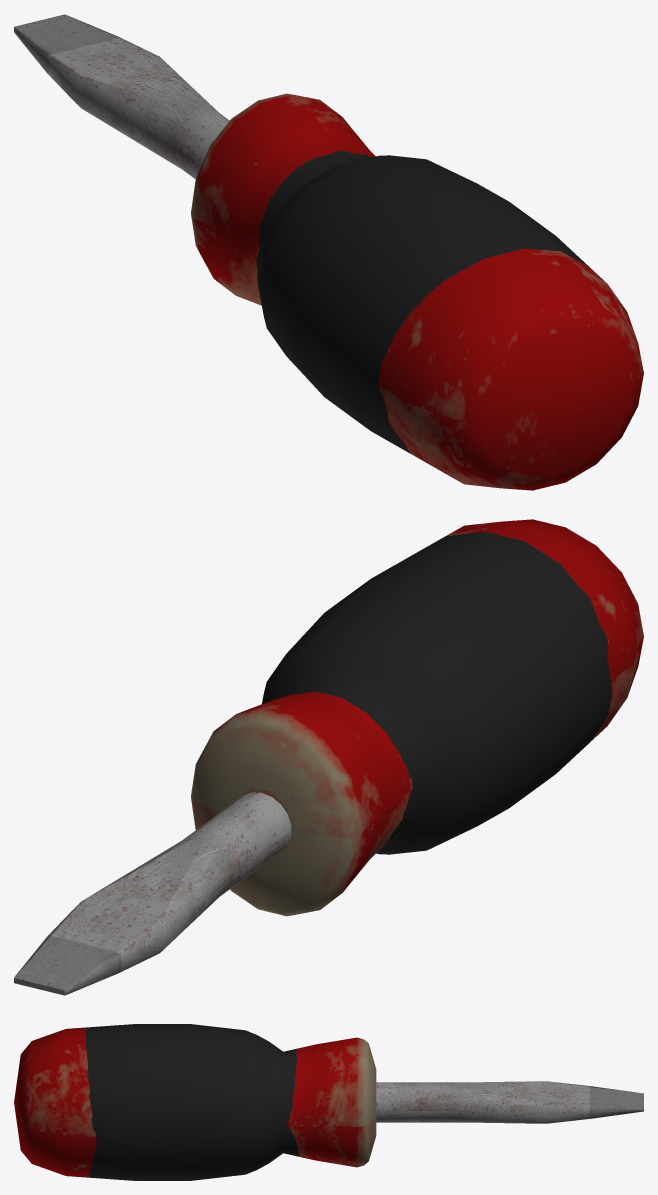
The model's file is Screwdriver01_4.FBX.
3 views of the same model, one above another, from view 1: azimuth 30°, elevation 25°; view 2: azimuth 150°, elevation 25°; view 3: azimuth 270°, elevation 25° (orthographic). The views are drawn at different scales.
Parts seen in each view (by area): view 1: Screwdriver01_4_LOD0; view 2: Screwdriver01_4_LOD0; view 3: Screwdriver01_4_LOD0.
Part boxes in pixels (x1,y1,x2,y2): Screwdriver01_4_LOD0: (14, 14, 643, 490); Screwdriver01_4_LOD0: (14, 519, 643, 995); Screwdriver01_4_LOD0: (14, 1024, 643, 1180).
Size of what is drawn, in the model's own units: 3.54 by 3.22 by 13.31.
